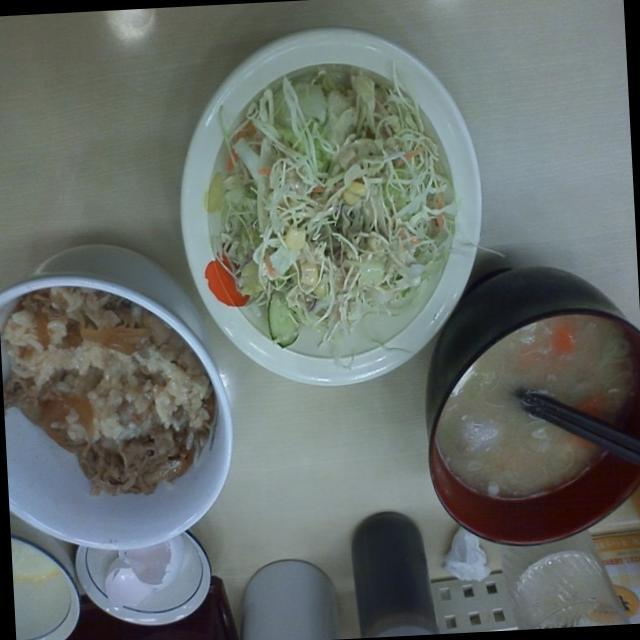Green Salad: (188, 66, 470, 352)
